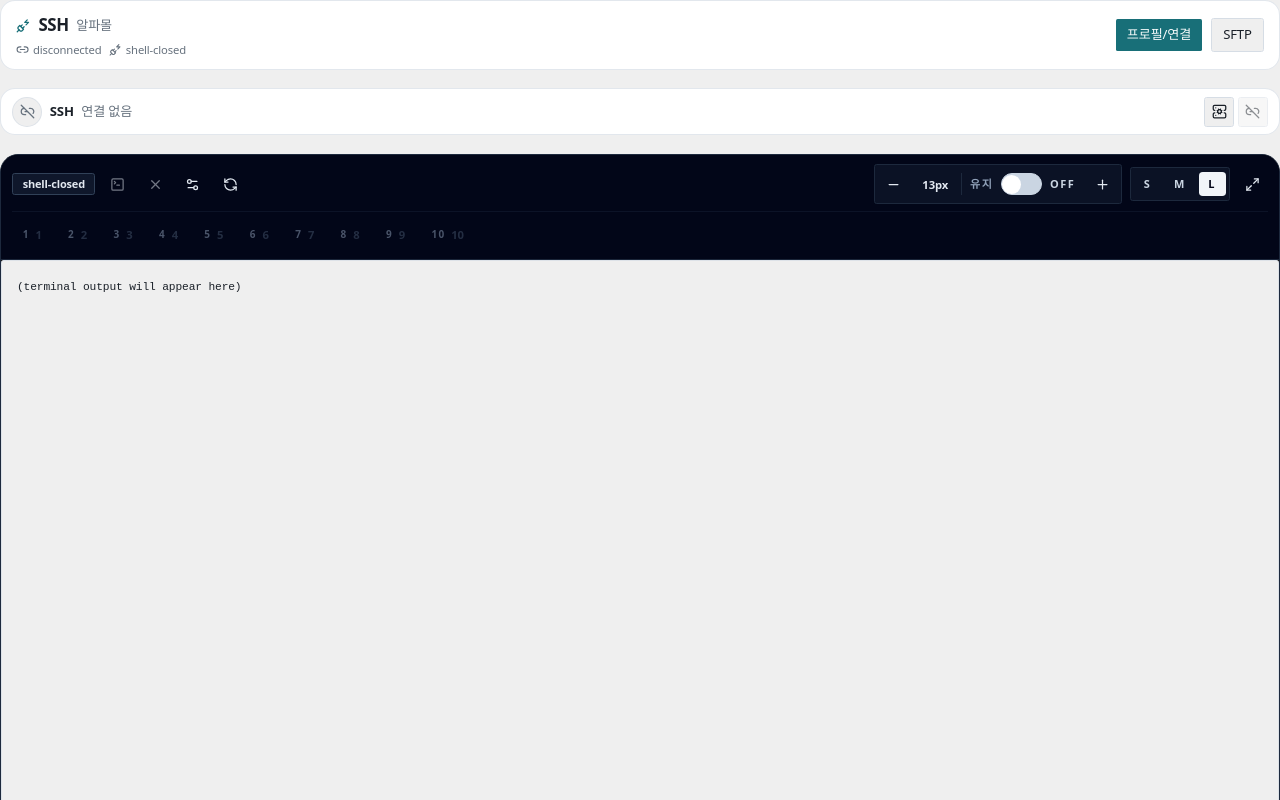
SiteSshSessionPage › inspects host verification when connect fails with host trust error
This screenshot has width=1280, height=800.
Click the button "프로필/연결" at (1159, 35), box top-left (1115, 18), bottom-right (1203, 52)
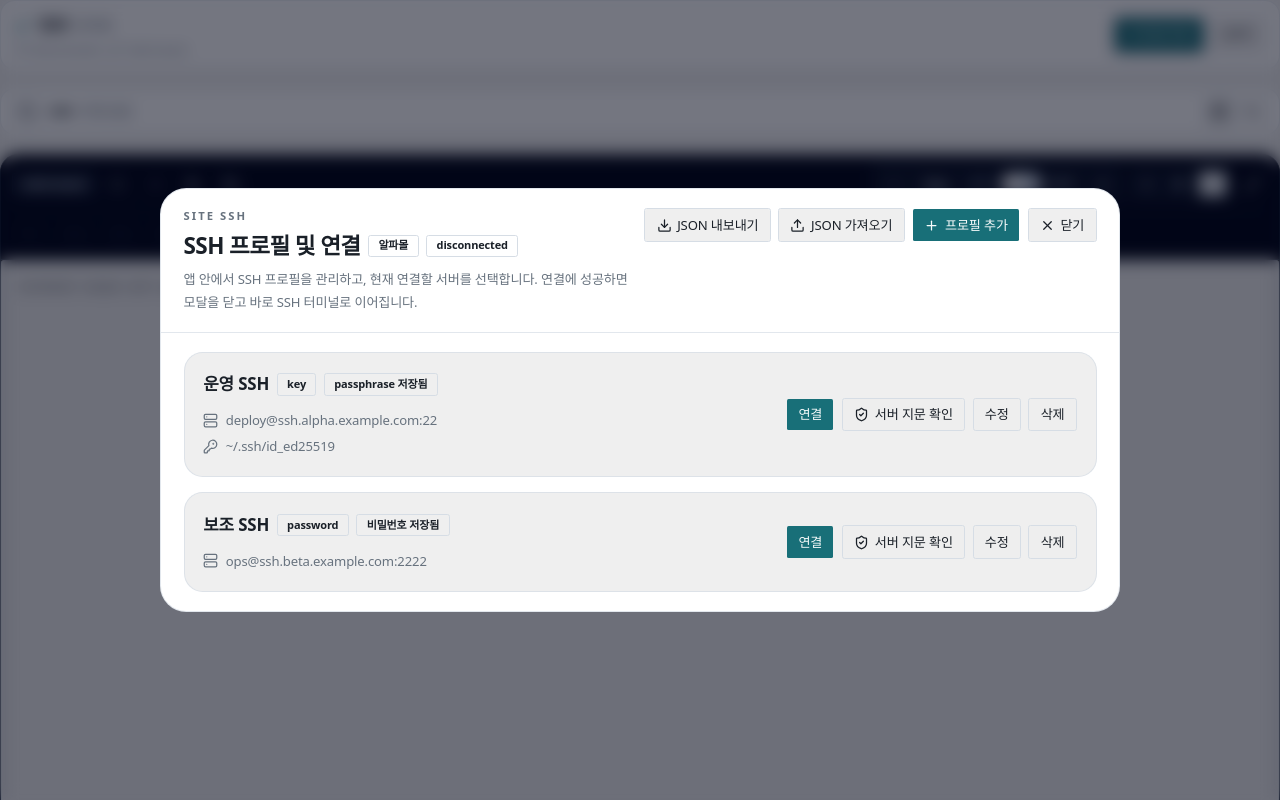
Click the button "연결" in the row of "ssh.alpha.example.com" at (810, 414), box top-left (786, 398), bottom-right (834, 431)
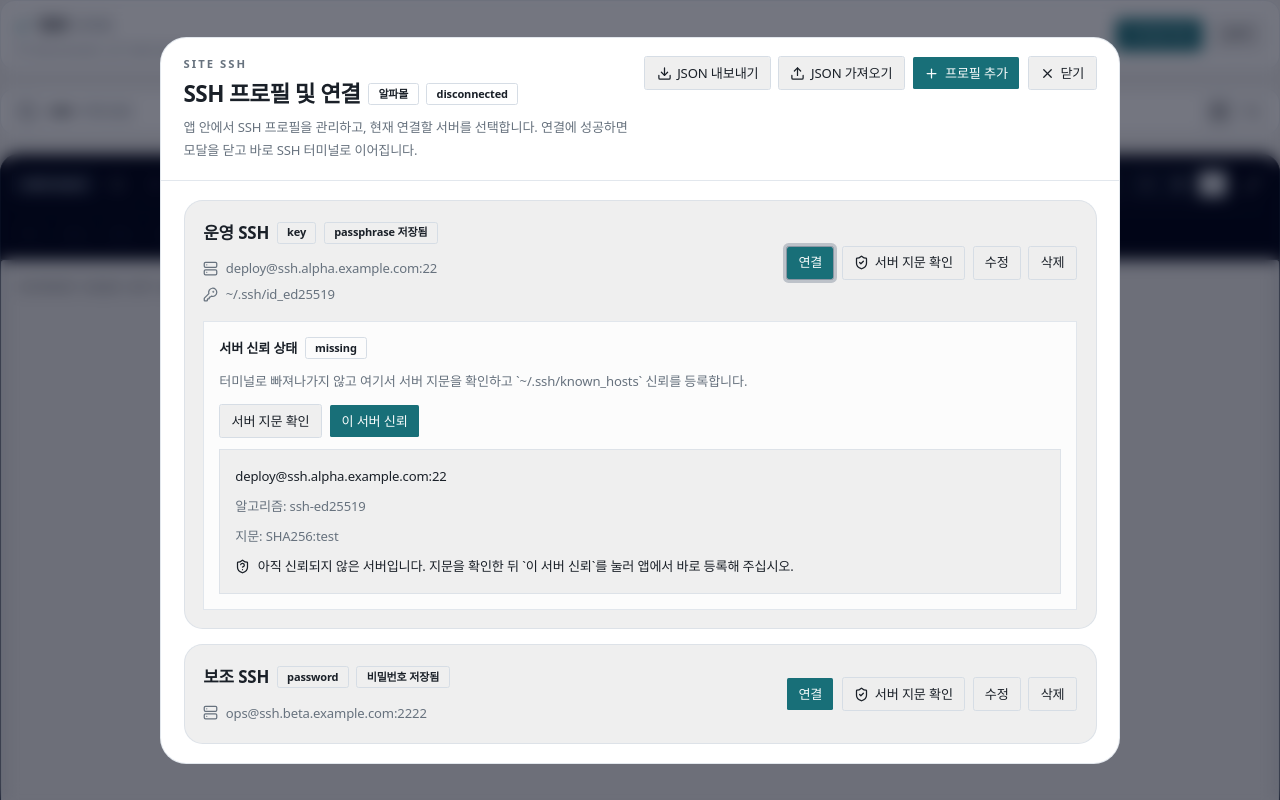
Expected: the text "서버 신뢰 상태" is shown, top-left (219, 338), bottom-right (297, 357)
Expected: the text "지문: SHA256:test" is shown, top-left (235, 527), bottom-right (339, 545)
Expected: the button "이 서버 신뢰" is shown, top-left (329, 404), bottom-right (420, 438)
